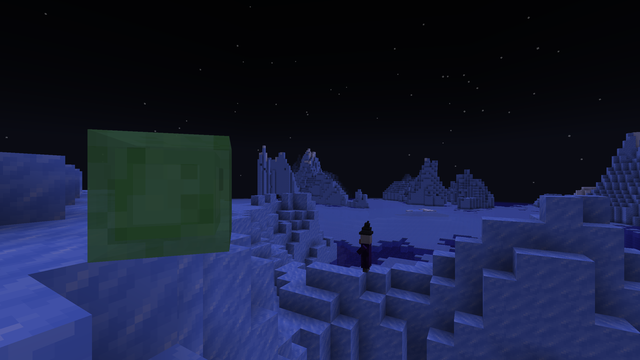slimes: (88, 121, 253, 266)
sorcieres: (358, 230, 373, 272)
